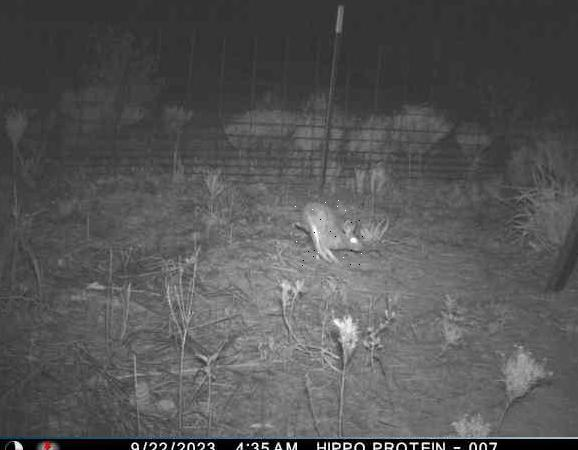Rabbit: (295, 199, 368, 268)
